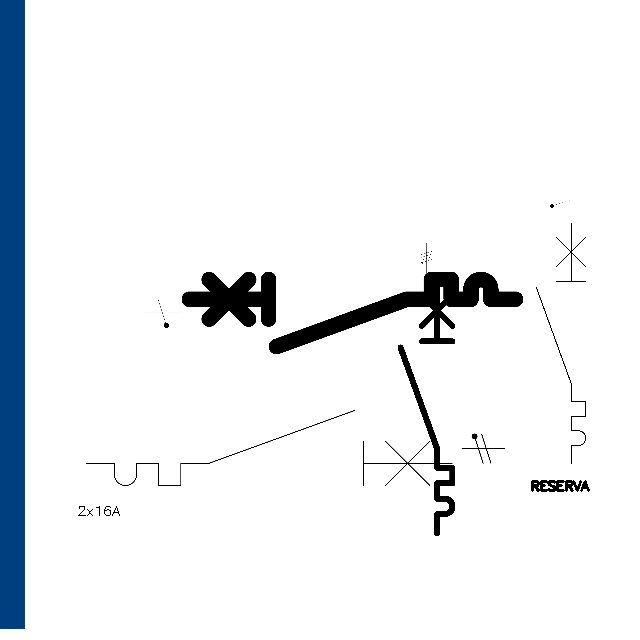interruptor_termomagnetico: (77, 401, 462, 495), (180, 271, 523, 355), (394, 273, 459, 540), (530, 216, 592, 469)
